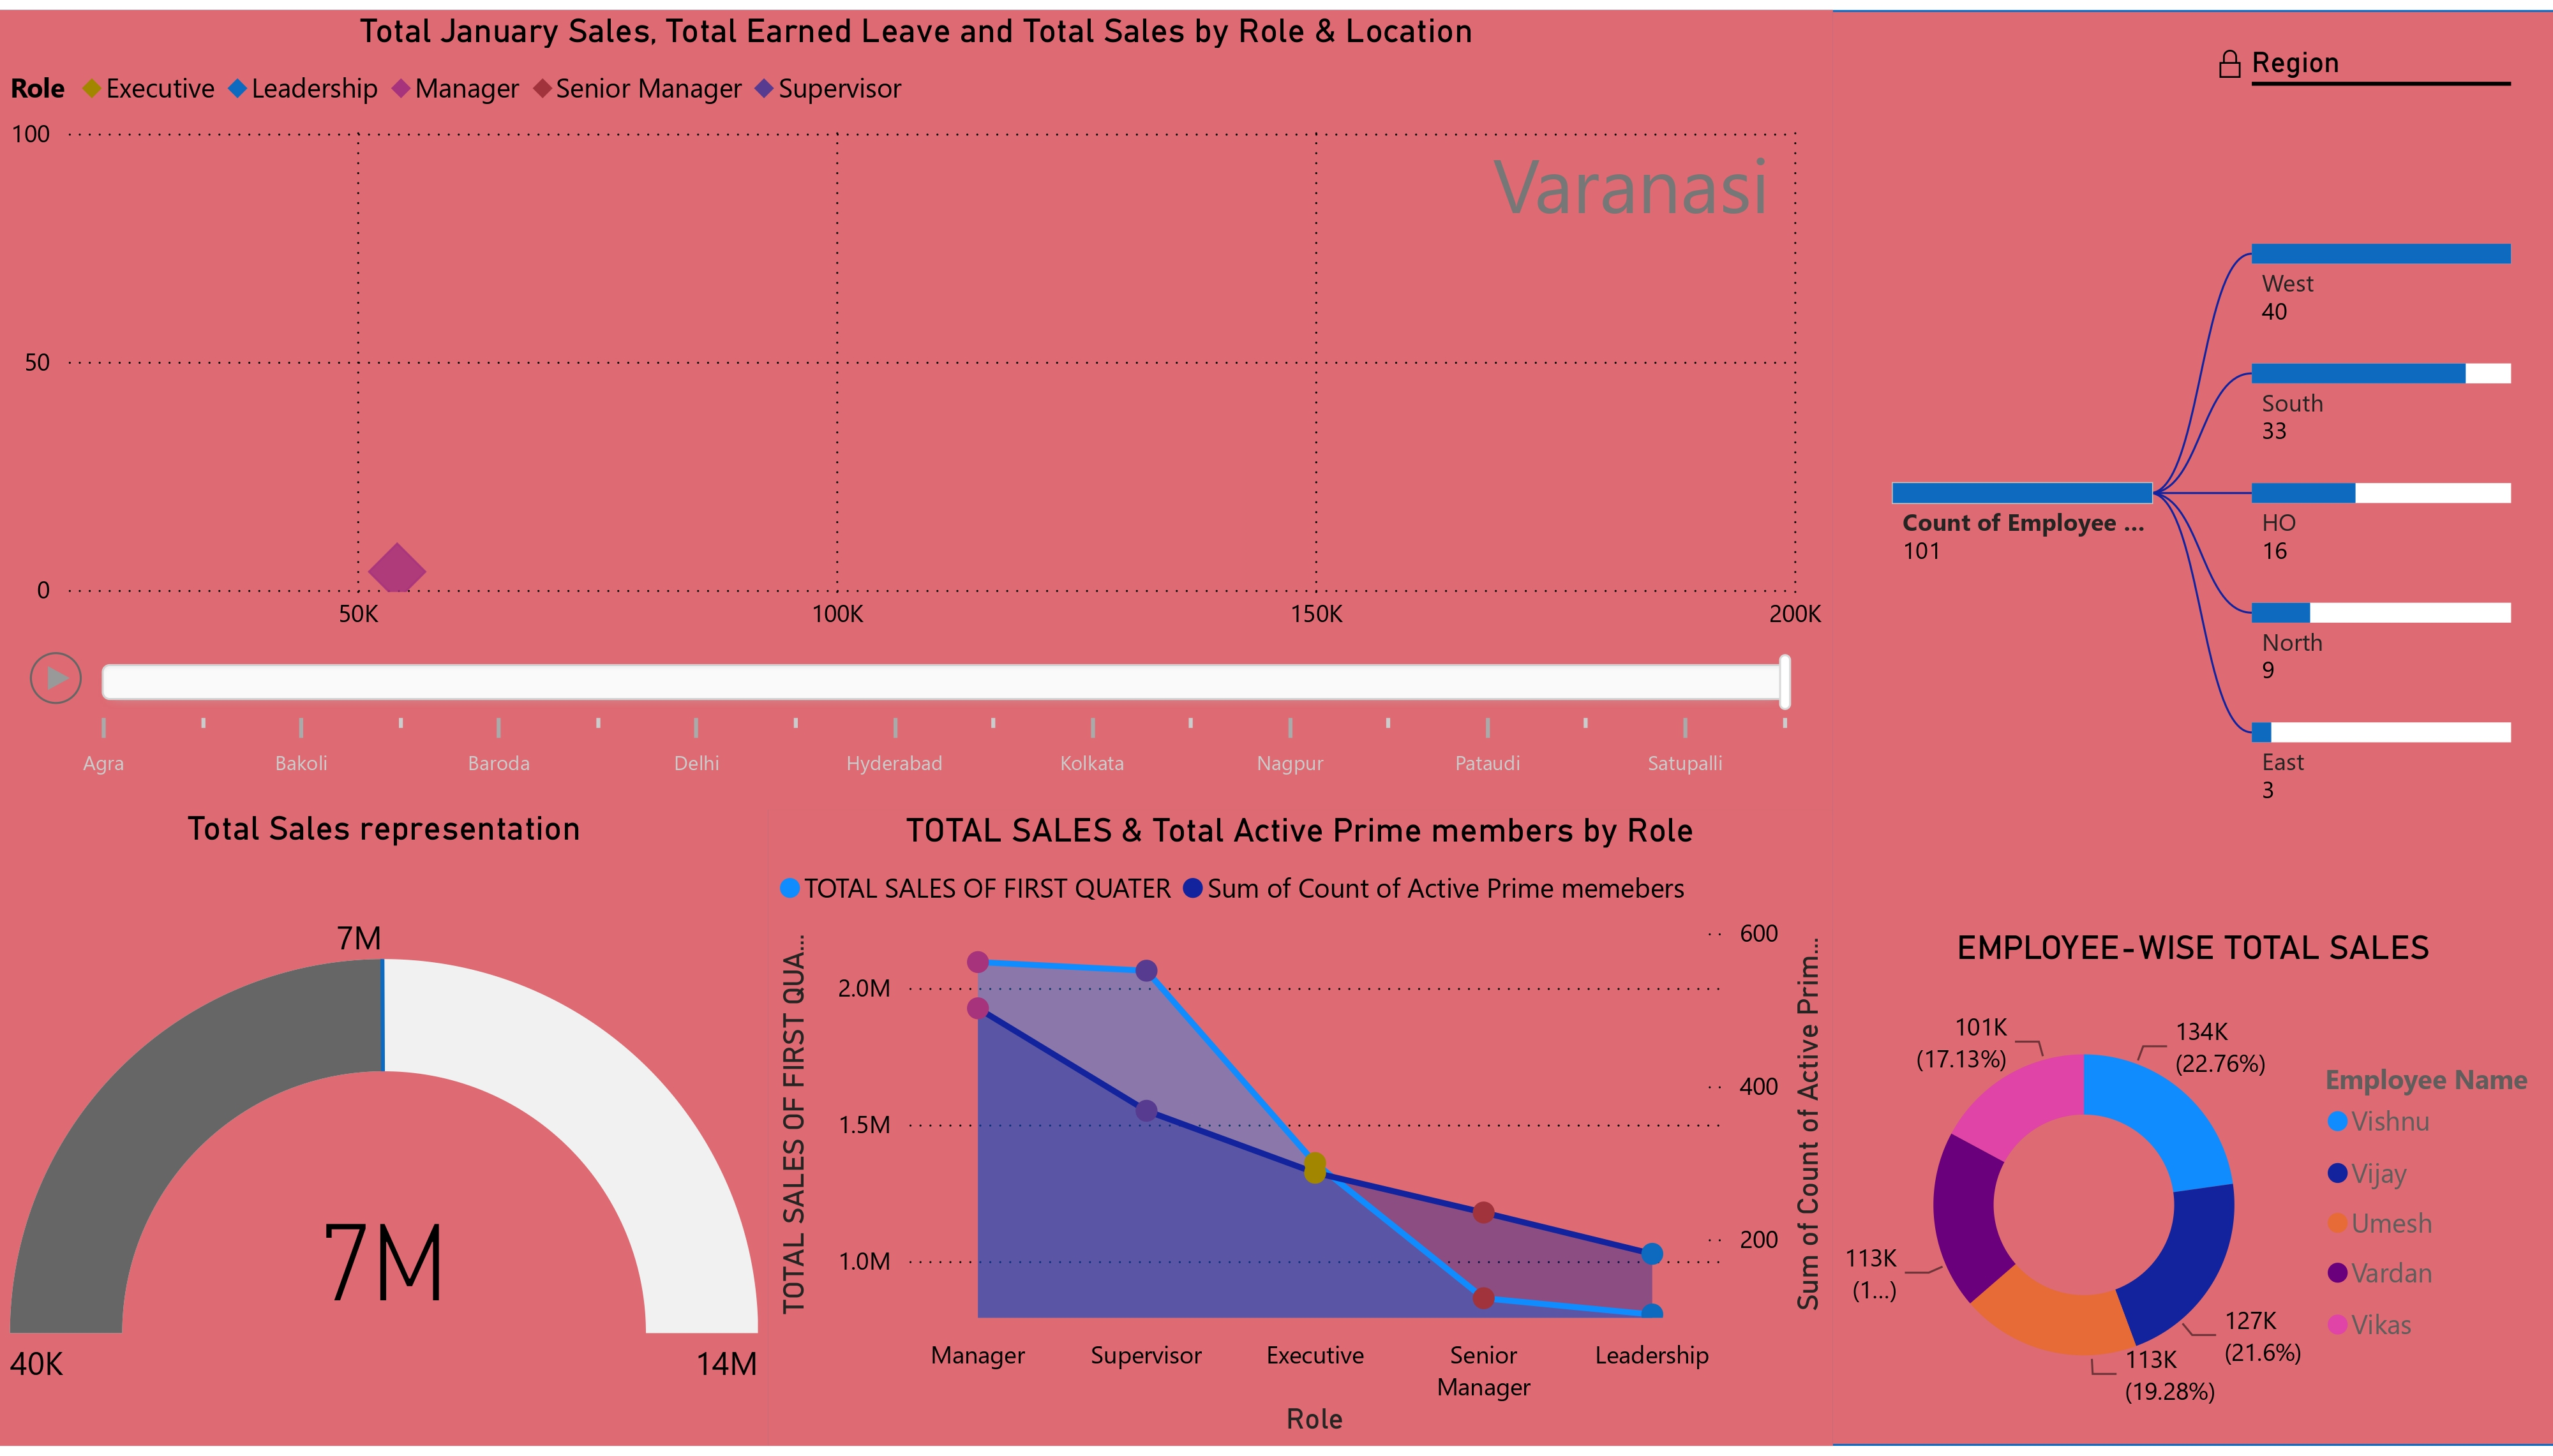

What the dashboard file says about the page in this screenshot:
{"tool":"powerbi","page":{"name":"Page 2","canvas":[1280,720],"ordinal":1},"visuals":[{"type":"decompositionTreeVisual","fields":{"ExplainBy":["Region_Mapping.Region"],"Analyze":["Employee Data.Employee Name"]},"box":[918.6,1.2,361.6,460.5],"z":0},{"type":"scatterChart","title":"Total January Sales, Total Earned Leave  and Total Sales by Role & Location","fields":{"Play":["Employee Data.Location"],"Y":["Employee Data.Earned Leave Available"],"X":["Sales Data.01-01-2021"],"Series":["Role_Mapping.Role"],"Size":["Sales Data.Total Sales"]},"box":[0,0,918.6,401.2],"z":1000},{"type":"gauge","title":"Total Sales representation","fields":{"Y":["Employee Data.TOTAL SALES OF FIRST QUATER"],"MinValue":["Employee Data.JAN AVG SALES"],"TargetValue":["Sales Data.Total Sales"]},"box":[0,399.6,385.1,320.4],"z":2000},{"type":"areaChart","title":"TOTAL SALES  & Total Active Prime members by Role","fields":{"Category":["Role_Mapping.Role"],"Y":["Employee Data.TOTAL SALES OF FIRST QUATER"],"Y2":["Employee Data.Count of Active Prime memebers"]},"box":[384.9,401.2,533.7,318.6],"z":3000},{"type":"donutChart","title":"EMPLOYEE-WISE TOTAL SALES ","fields":{"Y":["Employee Data.TOTAL SALES OF FIRST QUATER"],"Category":["Employee Data.Employee Name"]},"box":[918.6,460.5,361.6,259.3],"z":4000}]}

Visuals, with their boxes in screenshot pixels (x1, y1, x2, y2), scaled from the page's 1280x720 canvas onto the 2553x1456 screenshot:
decompositionTreeVisual - Region_Mapping.Region x Employee Data.Employee Name: box(1832, 3, 2552, 933)
"Total January Sales, Total Earned Leave  and Total Sales by Role & Location" scatterChart: box(0, 0, 1832, 812)
"Total Sales representation" gauge: box(0, 808, 768, 1455)
"TOTAL SALES  & Total Active Prime members by Role" areaChart: box(768, 812, 1832, 1455)
"EMPLOYEE-WISE TOTAL SALES " donutChart: box(1832, 932, 2552, 1455)
